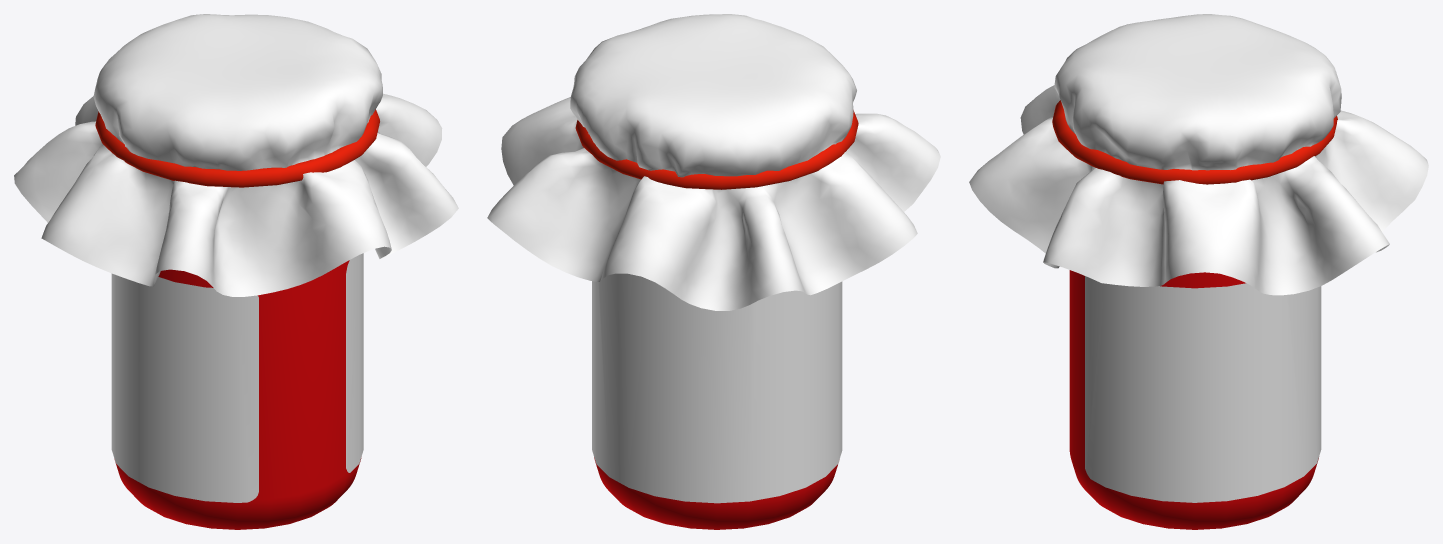
The model's file is StrawberryJam.fbx.
3 renders of one model, left to right at view 1: azimuth 30°, elevation 25°; view 2: azimuth 150°, elevation 25°; view 3: azimuth 270°, elevation 25°, orthographic.
Parts seen in each view (by area): view 1: 3d-model; view 2: 3d-model; view 3: 3d-model.
Part boxes in pixels (box(x1,y1,x2,y2)): 3d-model: box(14, 14, 458, 529); 3d-model: box(487, 14, 940, 529); 3d-model: box(969, 14, 1428, 529).
Size of the model in its own units: 563 by 577 by 559.
